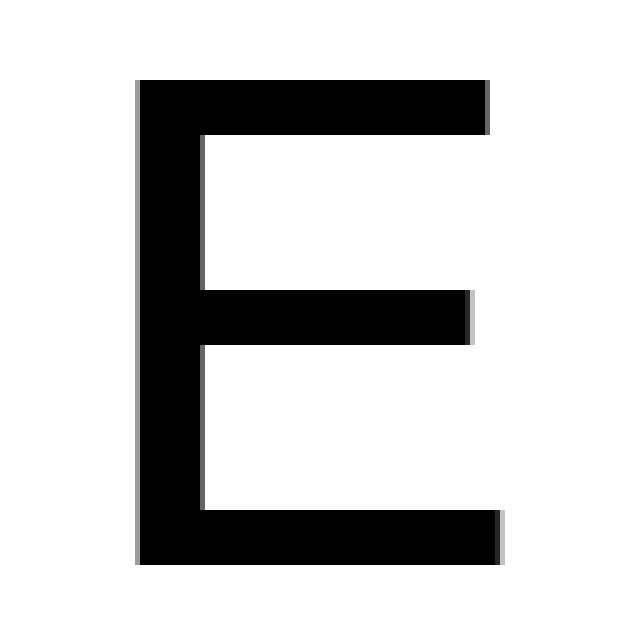E: (140, 80, 505, 565)
